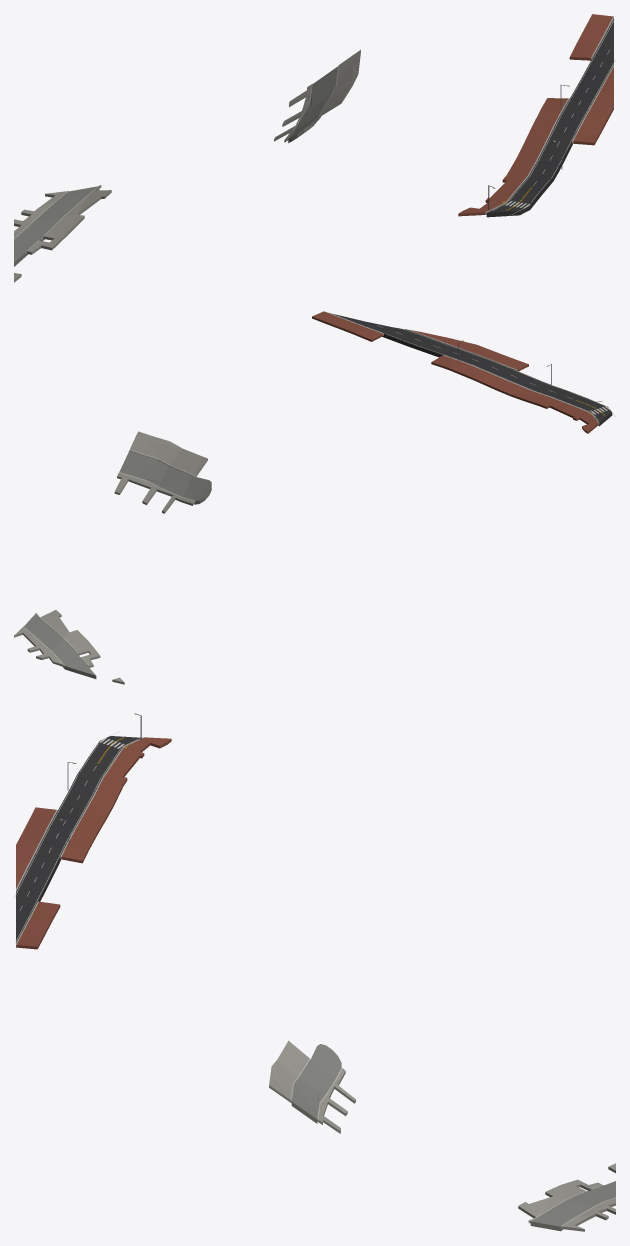
3 views of the same model, one above another, from view 1: azimuth 90°, elevation 25°; view 2: azimuth 150°, elevation 25°; view 3: azimuth 270°, elevation 25° (orthographic). The views are drawn at different scales.
Size of the model in its own units: 150 by 73.9 by 146.
